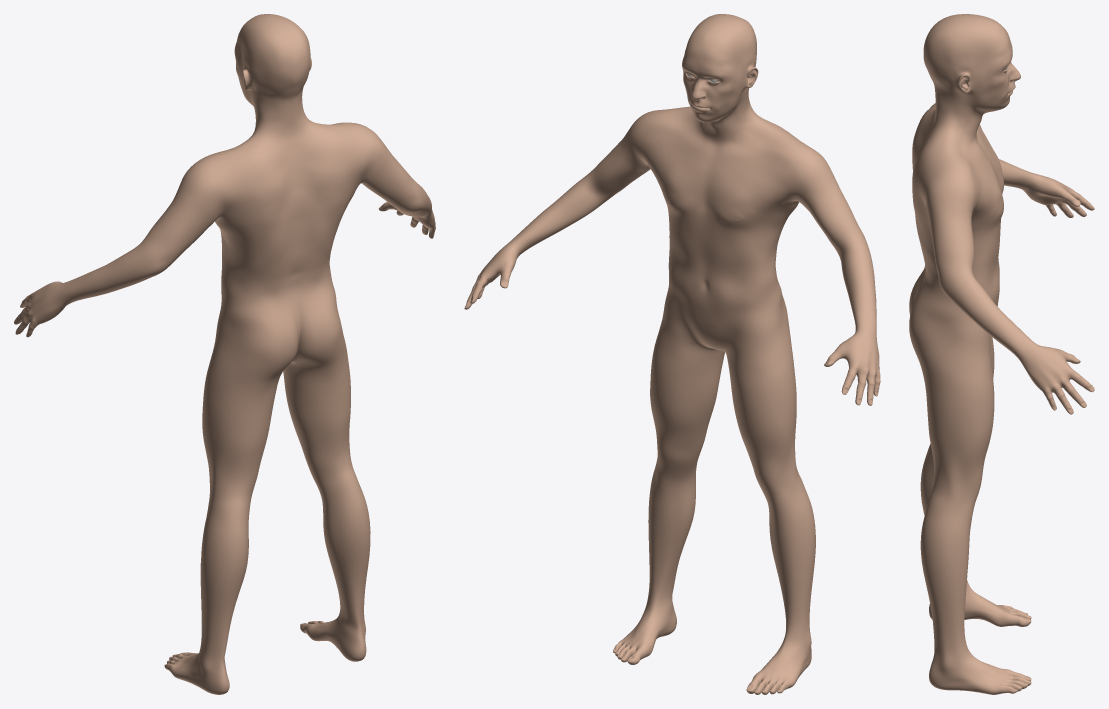
Rendered from koerper_male.glb.
The picture shows the model from 3 angles, left to right: view 1: azimuth 30°, elevation 25°; view 2: azimuth 150°, elevation 25°; view 3: azimuth 270°, elevation 25°; orthographic projection.
Parts seen in each view (by area): view 1: Koerper_male; view 2: Koerper_male; view 3: Koerper_male.
Boxes of the visible parts, x1=… form: Koerper_male: x1=14, y1=14, x2=435, y2=694; Koerper_male: x1=464, y1=14, x2=880, y2=694; Koerper_male: x1=909, y1=14, x2=1094, y2=694.
Bounding box in the file's own units: 1.14 × 1.71 × 0.4513.
